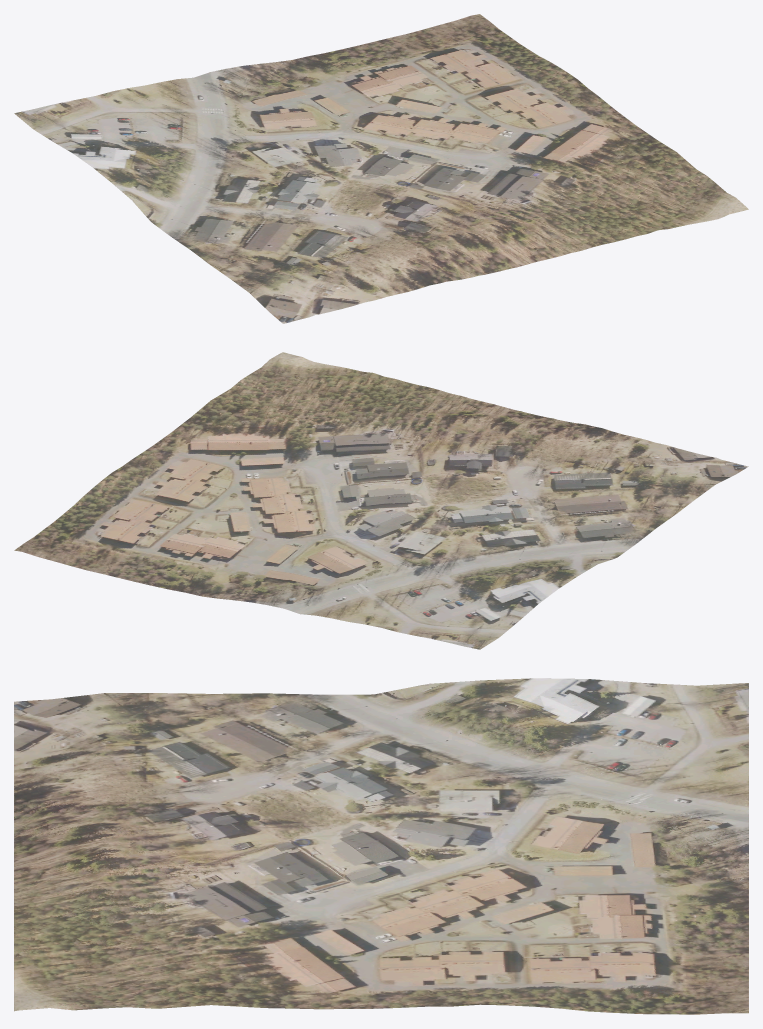
File: CM_Terrain_24493121_6814674.fbx
3 views of the same model, one above another, from view 1: azimuth 30°, elevation 25°; view 2: azimuth 150°, elevation 25°; view 3: azimuth 270°, elevation 25° (orthographic). The views are drawn at different scales.
Parts seen in each view (by area): view 1: CM_Terrain_24493121_6814674_LOD0; view 2: CM_Terrain_24493121_6814674_LOD0; view 3: CM_Terrain_24493121_6814674_LOD0.
Boxes of the visible parts, box(x1,y1,x2,y2) form: CM_Terrain_24493121_6814674_LOD0: box(14, 14, 748, 323); CM_Terrain_24493121_6814674_LOD0: box(14, 352, 748, 649); CM_Terrain_24493121_6814674_LOD0: box(14, 678, 748, 1014).
Size of what is drawn, in the model's own units: 205 by 8.38 by 205.
